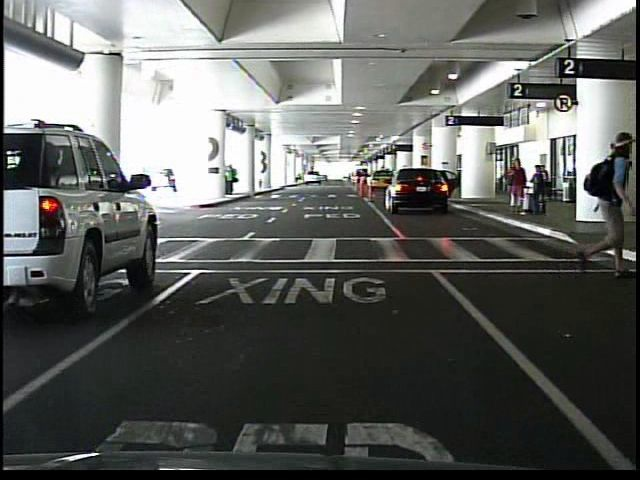person: (559, 135, 635, 271), (502, 157, 524, 212), (527, 163, 548, 215), (538, 164, 549, 199), (225, 164, 237, 196)
